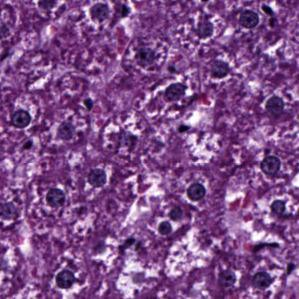inflammation: (184, 177, 209, 205), (259, 153, 285, 179), (53, 269, 78, 292), (265, 93, 286, 120), (239, 8, 262, 30), (210, 57, 231, 80), (47, 185, 67, 209), (12, 108, 31, 128)
